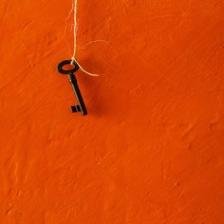orange: (1, 0, 224, 224)
